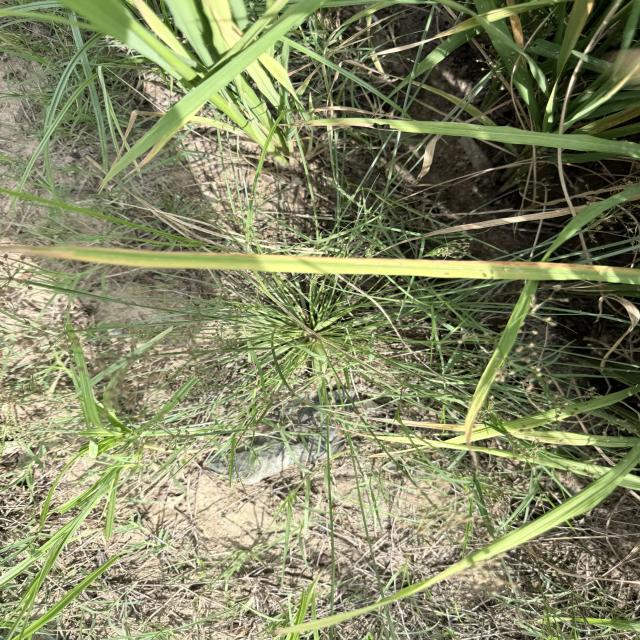Chay bia la: (4, 246, 640, 274), (5, 248, 226, 271)
